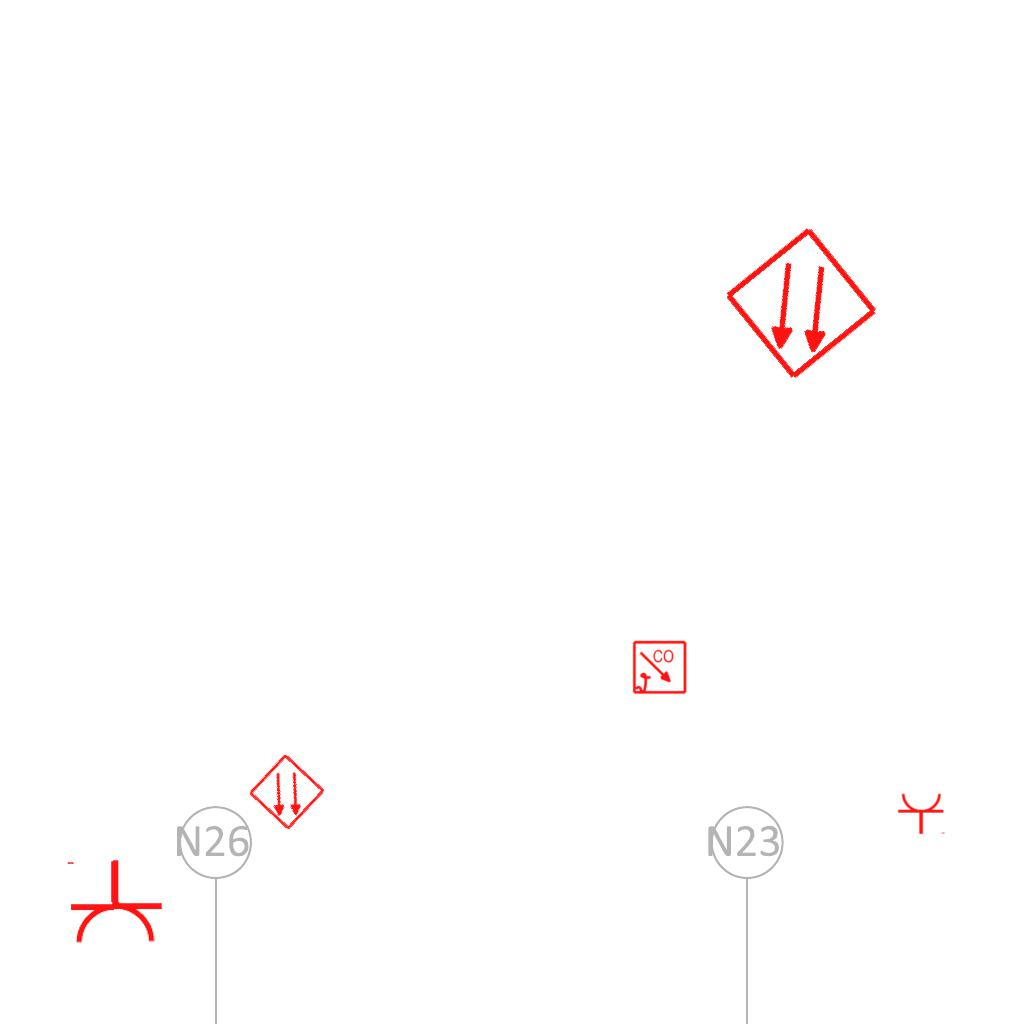RMO_Rauchmelder_optischer: (722, 224, 881, 383), (247, 752, 327, 832)
ROA_Rauchmelder_optisch_mit_Signalgeber_(Sockelsirene): (632, 640, 688, 696)
Schukosteckdose_einfach: (62, 857, 165, 947), (897, 792, 947, 835)
